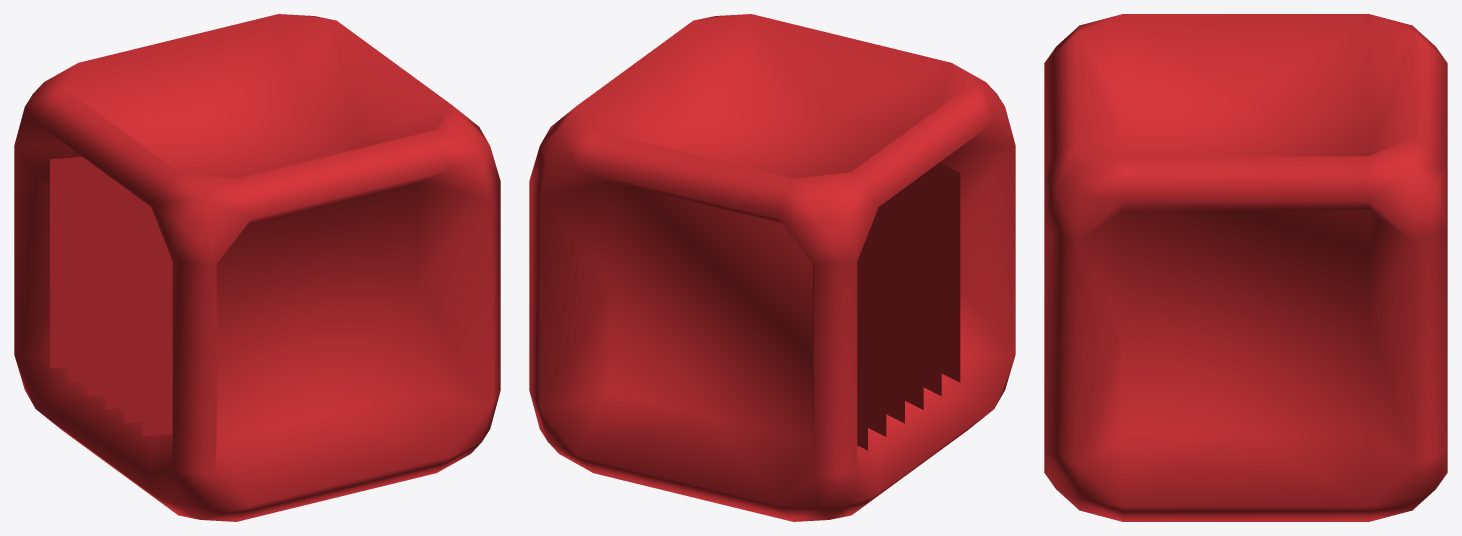
3 views of the same model, side by side, from view 1: azimuth 30°, elevation 25°; view 2: azimuth 150°, elevation 25°; view 3: azimuth 270°, elevation 25° (orthographic). The views are drawn at different scales.
Visible parts, largest first — view 1: Box; view 2: Box; view 3: Box.
Part boxes in pixels (x1,y1,x2,y2): Box: (14,14,500,521); Box: (529,14,1015,521); Box: (1044,14,1447,521).
Size of the model in its own units: 707 by 707 by 707.
